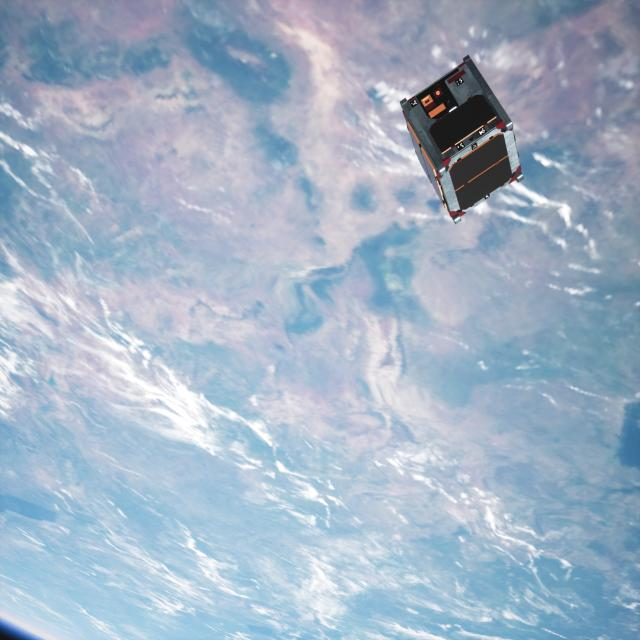medium_debris: (393, 53, 528, 224)
